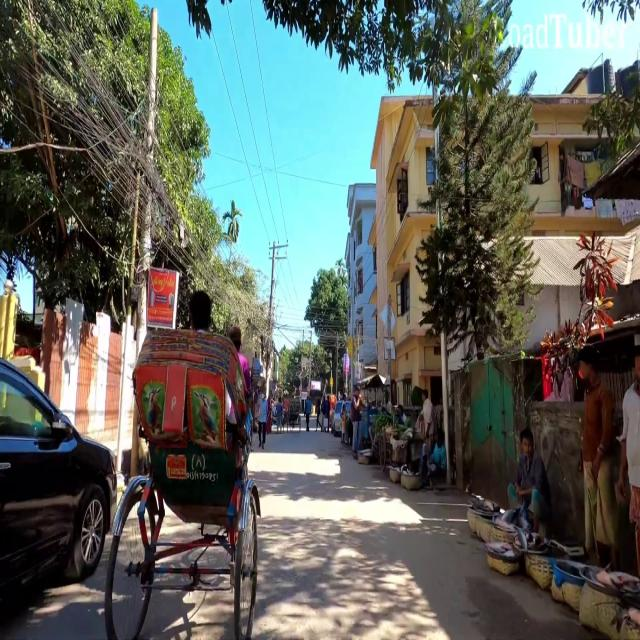black: (0, 354, 120, 618)
